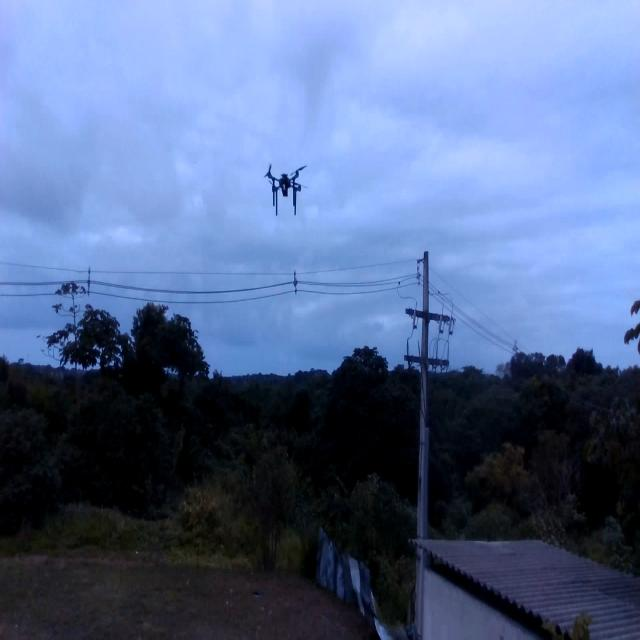-uav-: (257, 154, 313, 222)
